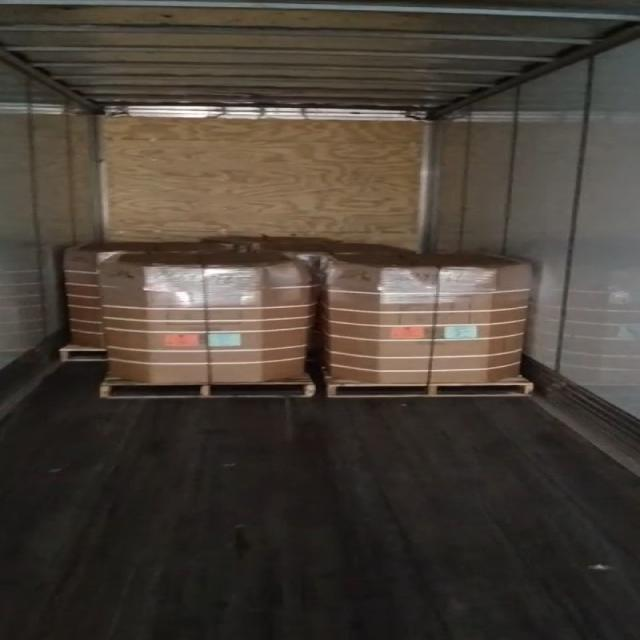pallet: (99, 384, 316, 398), (328, 383, 536, 397), (61, 348, 107, 361)
